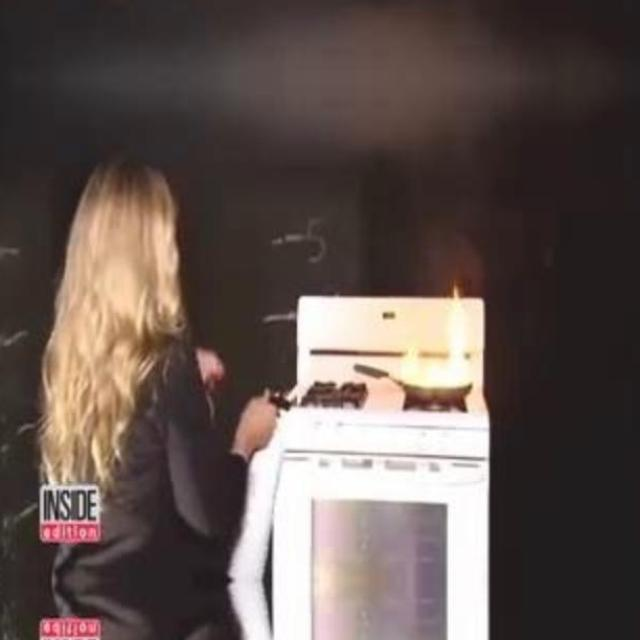smoke: (396, 279, 479, 392)
